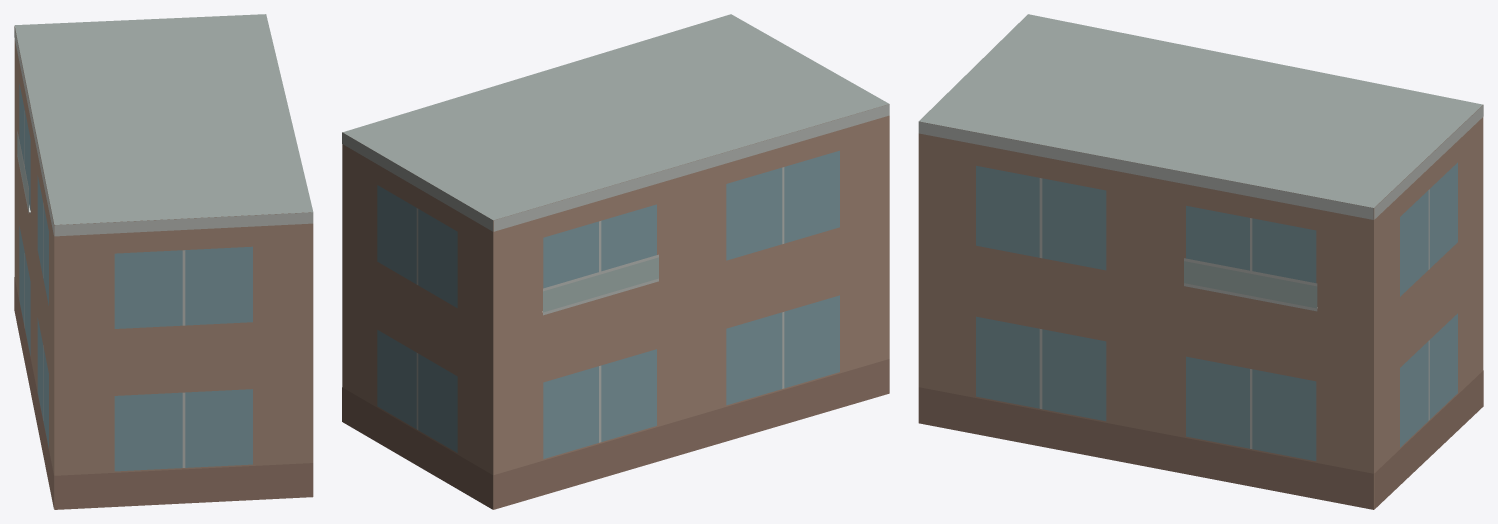
Rendered from survey-upis-32508318.glb.
3 views of the same model, side by side, from view 1: azimuth 30°, elevation 25°; view 2: azimuth 150°, elevation 25°; view 3: azimuth 270°, elevation 25° (orthographic). The views are drawn at different scales.
Parts seen in each view (by area): view 1: survey-upis-32508318.tmp; view 2: survey-upis-32508318.tmp; view 3: survey-upis-32508318.tmp.
Part boxes in pixels (box(x1,y1,x2,y2)): survey-upis-32508318.tmp: box(14, 14, 313, 509); survey-upis-32508318.tmp: box(342, 14, 889, 509); survey-upis-32508318.tmp: box(918, 14, 1483, 509).
Bounding box in the file's own units: 8.42 × 6.1 × 10.35.
